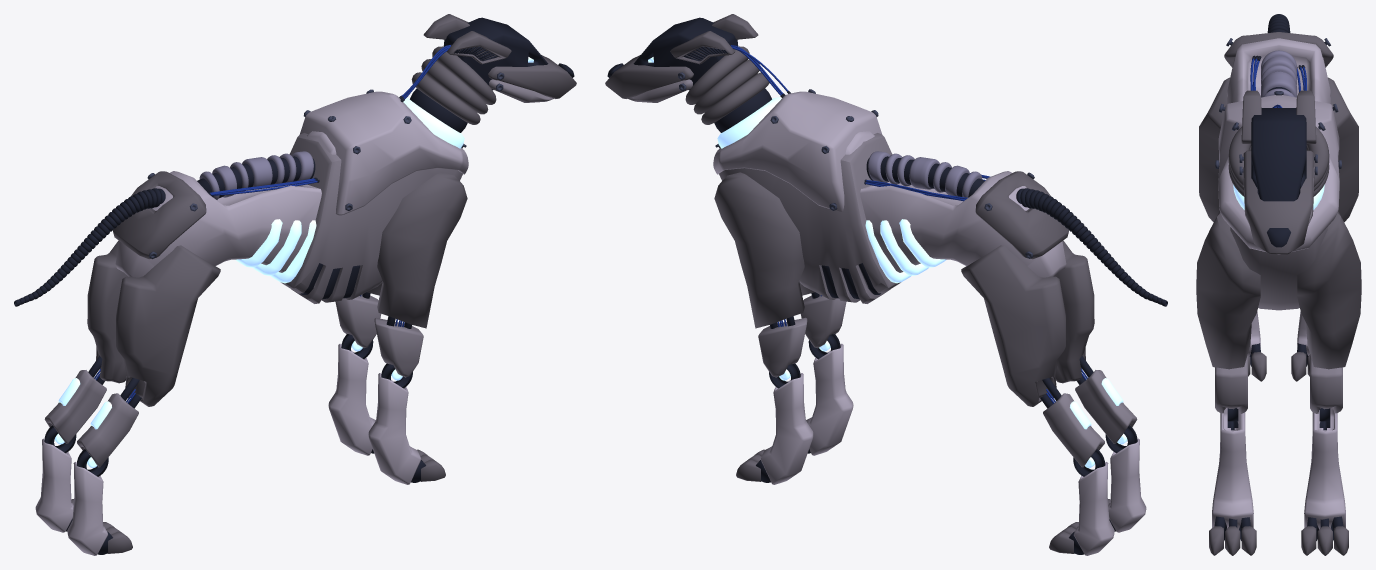
The model's file is robot_dog.glb.
The picture shows the model from 3 angles, left to right: view 1: azimuth 30°, elevation 25°; view 2: azimuth 150°, elevation 25°; view 3: azimuth 270°, elevation 25°; orthographic projection. The views are drawn at different scales.
Parts seen in each view (by area): view 1: Cube.001, Cube.005, Cube.006, Cube, Cube.007, Cube.009, Cube.003, Cube.004, Cube.002, Cube.008, Torus.001, Torus (+12 smaller); view 2: Cube.001, Cube.005, Cube.006, Cube, Cube.007, Cube.009, Cube.003, Cube.004, Cube.002, Cube.008, Torus.001, Cylinder.001 (+12 smaller); view 3: Cube.007, Cube.009, Cube.005, Cube.010, Cube.001, Cube.011, Cube, Cube.006, Cube.008, Torus.001, Cube.016, Cylinder.001 (+12 smaller).
Boxes of the visible parts, left/top/right/bottom form: Cube.001: left=87, top=240, right=220, bottom=406; Cube.005: left=299, top=91, right=468, bottom=215; Cube.006: left=281, top=133, right=462, bottom=303; Cube: left=115, top=131, right=336, bottom=277; Cube.007: left=367, top=172, right=467, bottom=328; Cube.009: left=328, top=343, right=421, bottom=484; Cube.003: left=35, top=438, right=107, bottom=555; Cube.004: left=113, top=171, right=206, bottom=259; Cube.002: left=44, top=370, right=138, bottom=467; Cube.008: left=335, top=294, right=423, bottom=377; Torus.001: left=411, top=46, right=496, bottom=124; Torus: left=14, top=188, right=165, bottom=306; Cube.001: left=961, top=240, right=1094, bottom=406; Cube.005: left=713, top=91, right=882, bottom=211; Cube.006: left=719, top=133, right=900, bottom=303; Cube: left=845, top=131, right=1066, bottom=277; Cube.007: left=714, top=172, right=814, bottom=328; Cube.009: left=760, top=343, right=853, bottom=484; Cube.003: left=1074, top=438, right=1146, bottom=555; Cube.004: left=975, top=171, right=1068, bottom=259; Cube.002: left=1043, top=370, right=1137, bottom=467; Cube.008: left=758, top=294, right=846, bottom=377; Torus.001: left=685, top=46, right=769, bottom=124; Cylinder.001: left=868, top=151, right=982, bottom=197; Cube.007: left=1196, top=211, right=1361, bottom=369; Cube.009: left=1212, top=408, right=1345, bottom=529; Cube.005: left=1218, top=95, right=1339, bottom=254; Cube.010: left=1251, top=108, right=1306, bottom=201; Cube.001: left=1199, top=77, right=1358, bottom=222; Cube.011: left=1243, top=150, right=1314, bottom=254; Cube: left=1227, top=38, right=1330, bottom=103; Cube.006: left=1230, top=227, right=1327, bottom=310; Cube.008: left=1215, top=354, right=1342, bottom=413; Torus.001: left=1228, top=127, right=1329, bottom=196; Cube.016: left=1241, top=90, right=1316, bottom=143; Cylinder.001: left=1261, top=50, right=1296, bottom=97.
Bounding box in the file's own units: 4.17 × 3 × 0.9263.
